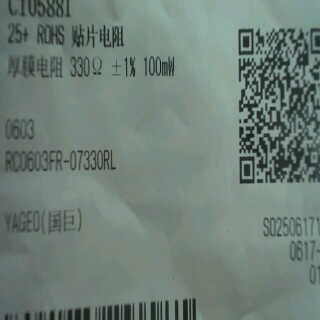330R: (66, 53, 108, 80)
